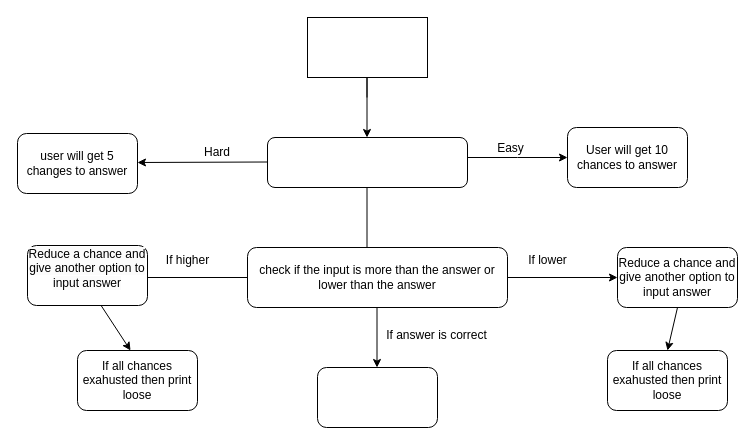
This 755x445 diagram has some shape labels left out. The box of each missing label's shape, as (x1, y1, x2, y2) in pixels:
Creating print statement and 1 input statement: (266, 136, 468, 188)
Number-Guessing-Game: (306, 16, 428, 78)
You won: (316, 366, 438, 428)
